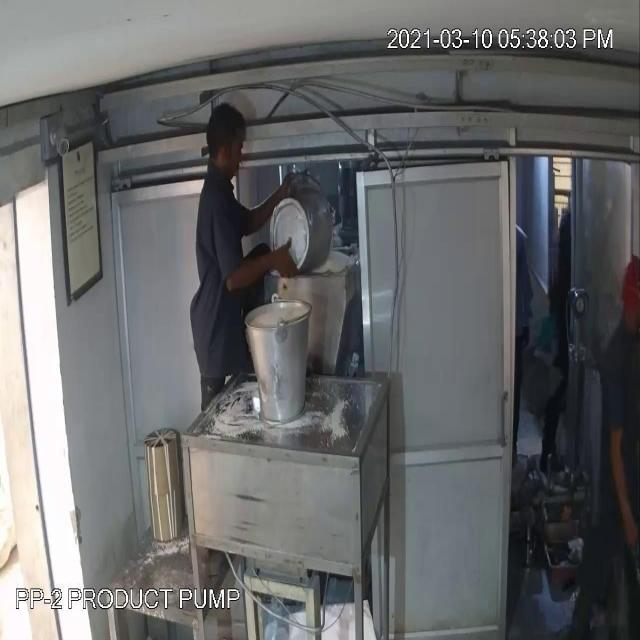No_Gloves: (60, 70, 263, 268)
